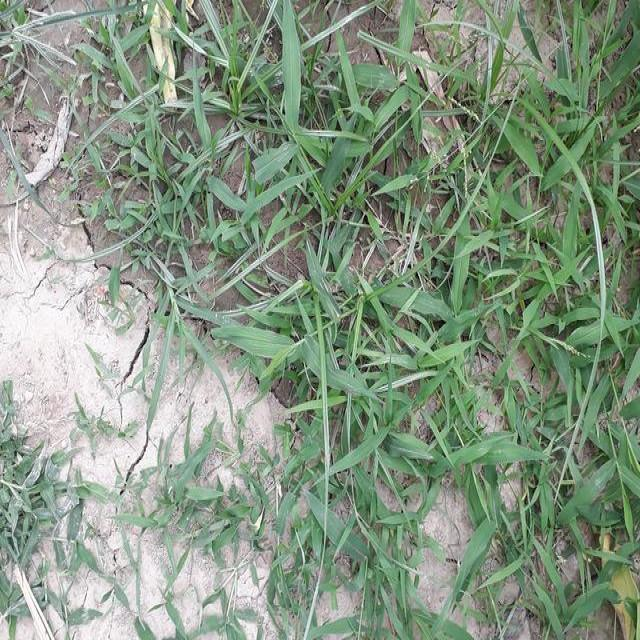weed: (198, 5, 638, 640), (479, 18, 640, 640), (110, 5, 435, 251), (0, 390, 89, 613)
